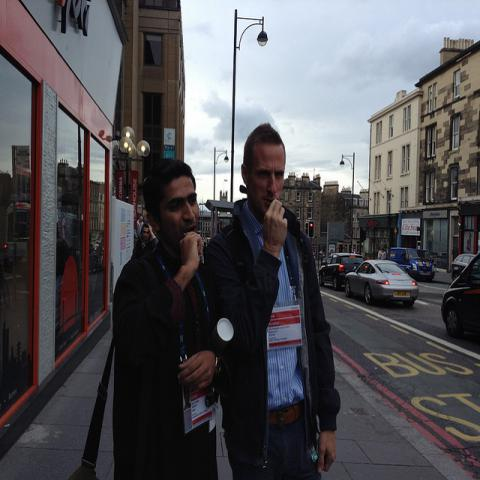car: (345, 260, 418, 307), (440, 252, 479, 337), (318, 252, 364, 291), (390, 248, 436, 283), (451, 253, 476, 281)
